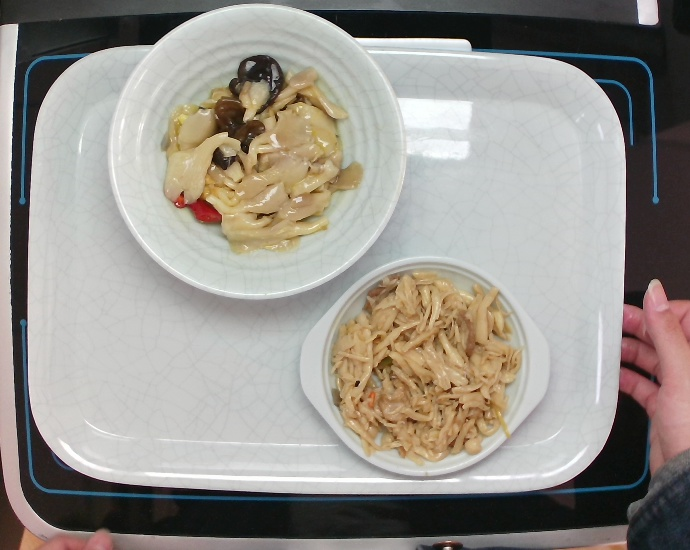JYsf-Shuang_Er_Pan: (294, 252, 555, 482)
JYsf-Xiao_Tang_Wan: (102, 1, 409, 305)
